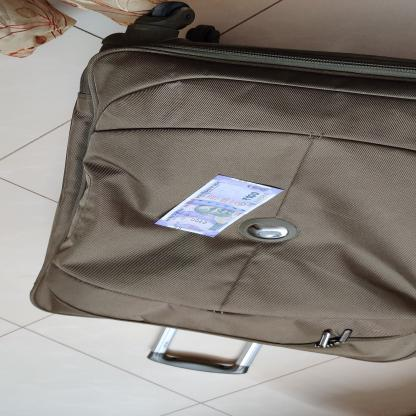New100Front: (155, 175, 285, 238)
